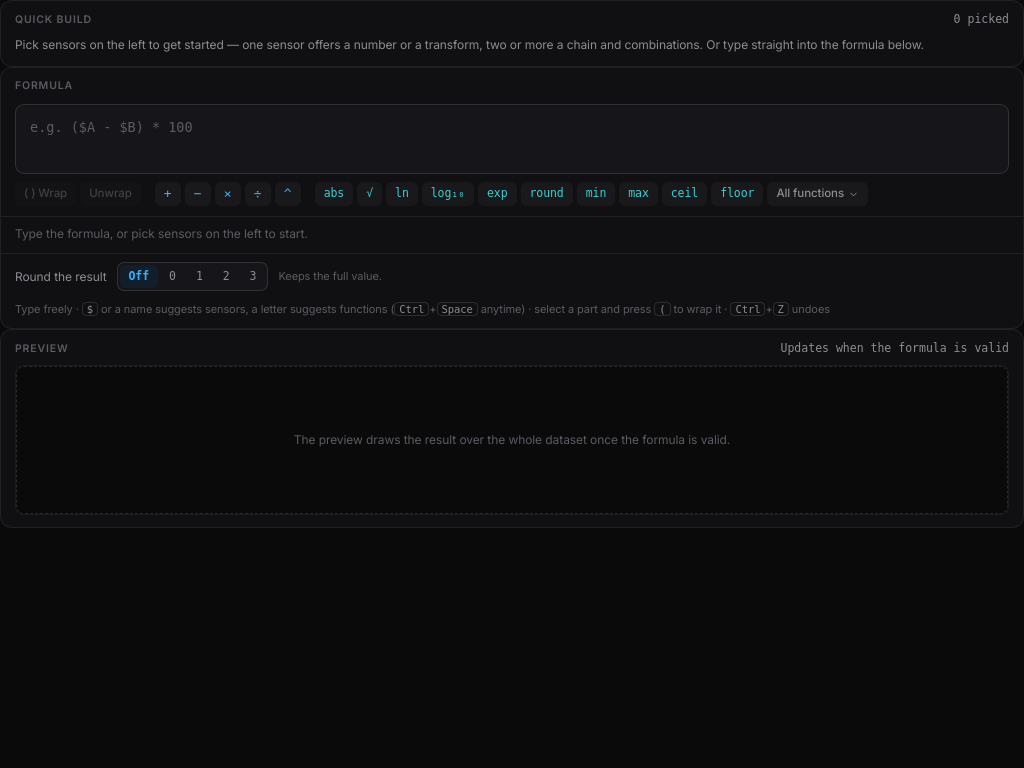
Test: painted mirror › underlines the error range and offers the fix; clicking the message selects the range
Type "$A $B" into the text box named "Formula".
click(512, 139); type("$A $B")  # box [16, 105, 1008, 173]
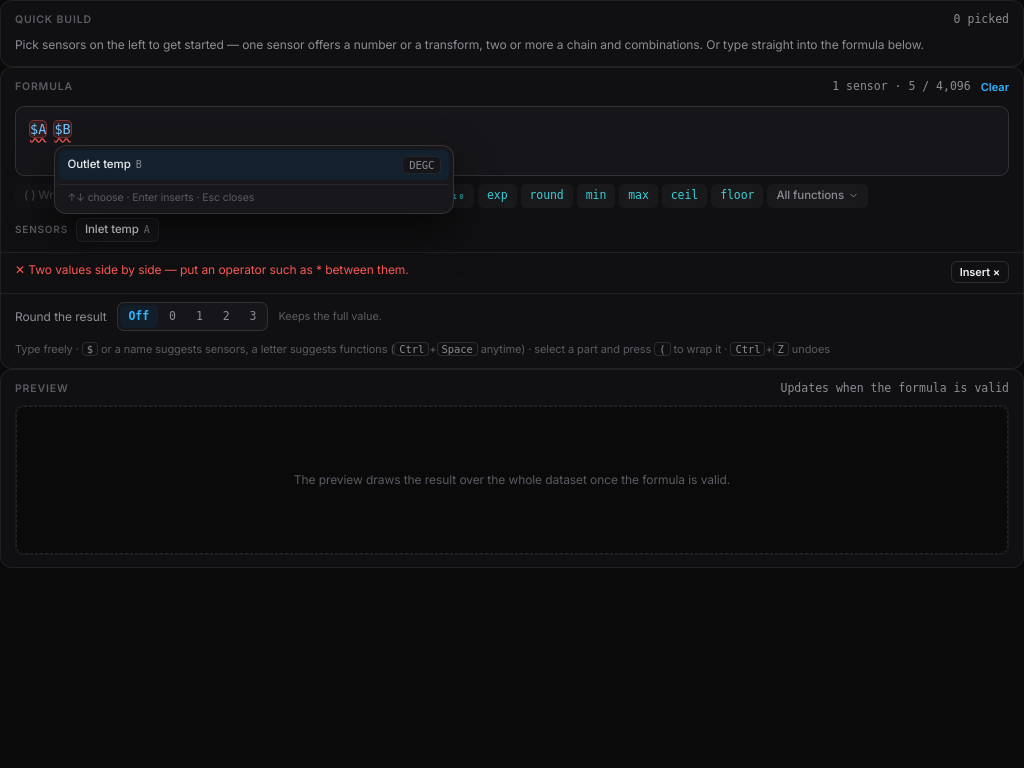
Expected: the message with test id "formula-check" shows "Two values side by side"
Click the button "Two values side by side".
click(218, 269)  # box [15, 260, 943, 278]
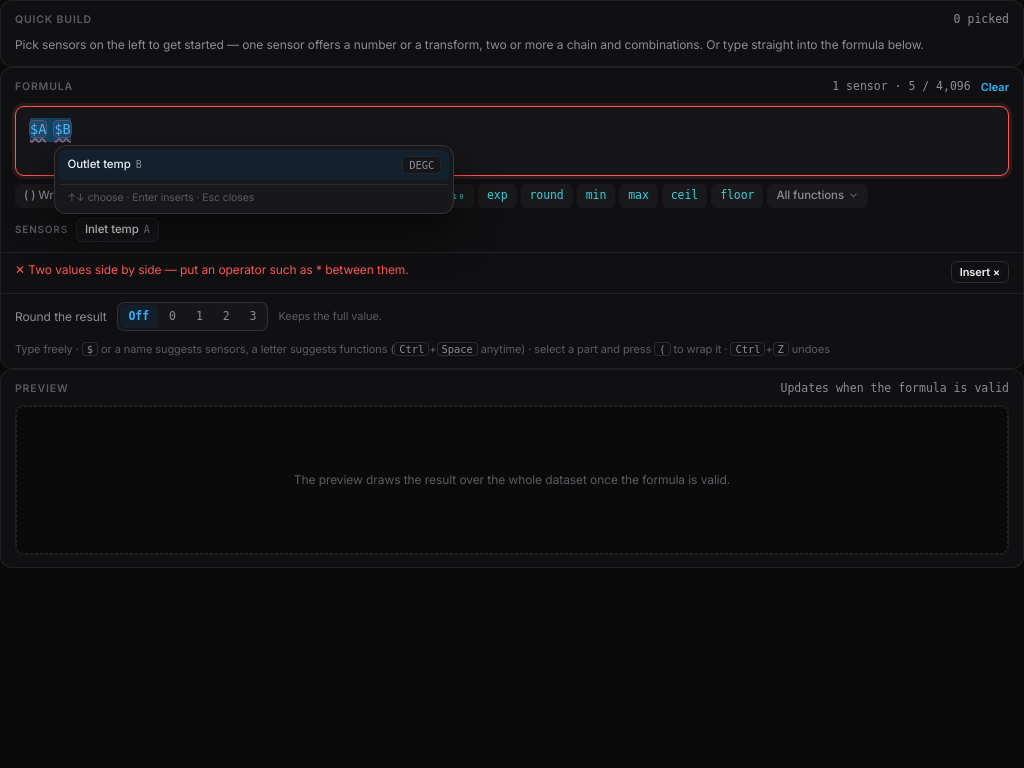
Click the button "Insert ×".
click(980, 272)  # box [951, 260, 1009, 283]
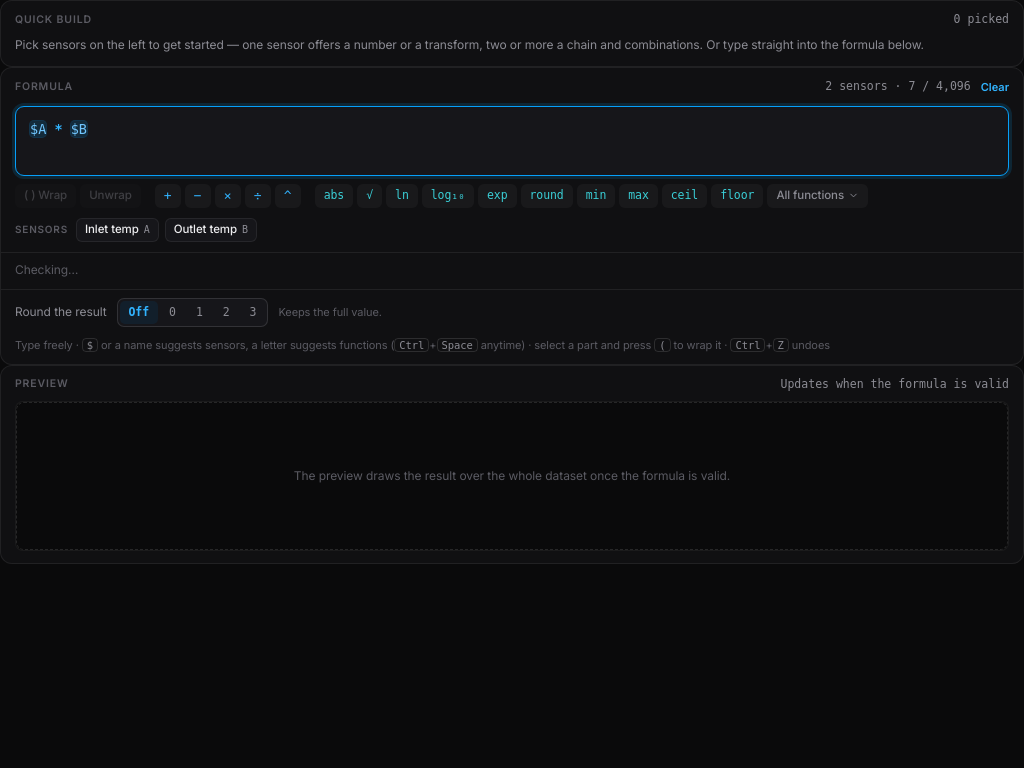
Expected: the text box named "Formula" holds "$A * $B", [16, 106, 1008, 174]
